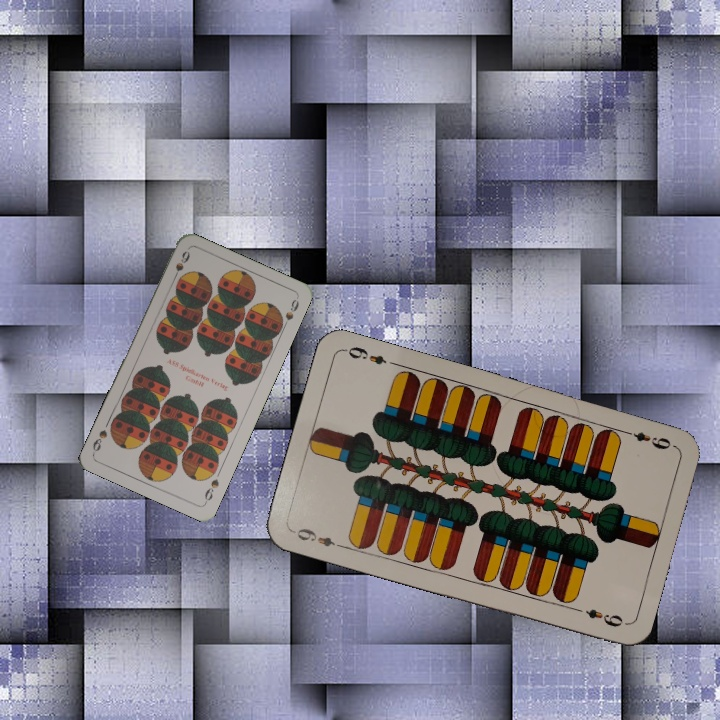E9: (289, 524, 347, 551), (619, 426, 674, 452)
S9: (168, 247, 192, 285), (200, 475, 222, 506)
